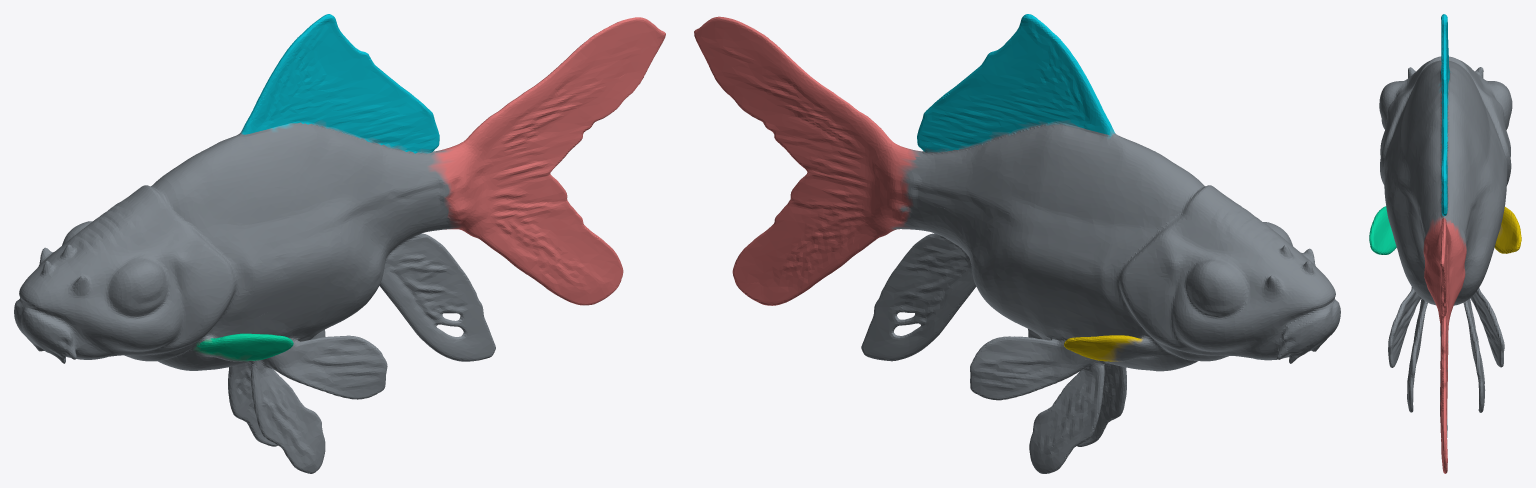
The model's file is goldfish_segmented.glb.
3 renders of one model, left to right at view 1: azimuth 30°, elevation 25°; view 2: azimuth 150°, elevation 25°; view 3: azimuth 270°, elevation 25°, orthographic. The views are drawn at different scales.
Parts seen in each view (by area): view 1: world; view 2: world; view 3: world.
Boxes of the visible parts, box(x1,y1,x2,y2) form: world: box(14, 14, 665, 473); world: box(694, 14, 1340, 473); world: box(1369, 14, 1521, 473).
Bounding box in the file's own units: 1.65 × 1.08 × 0.3606.
